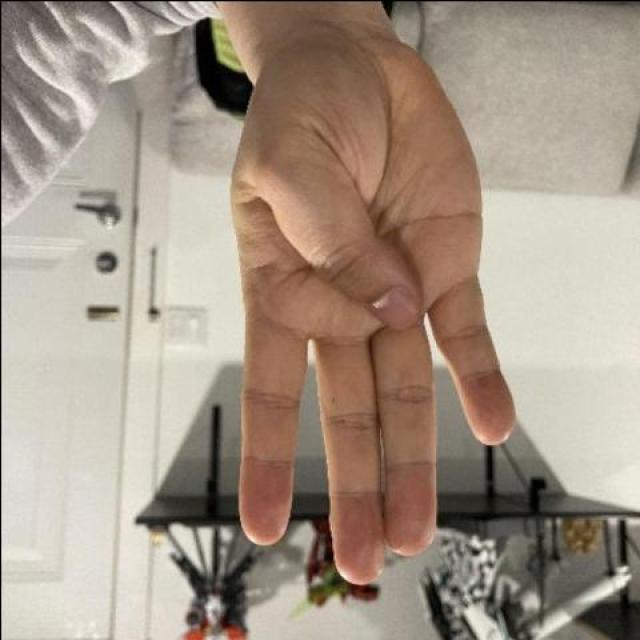Open Hand: (185, 6, 538, 593)
